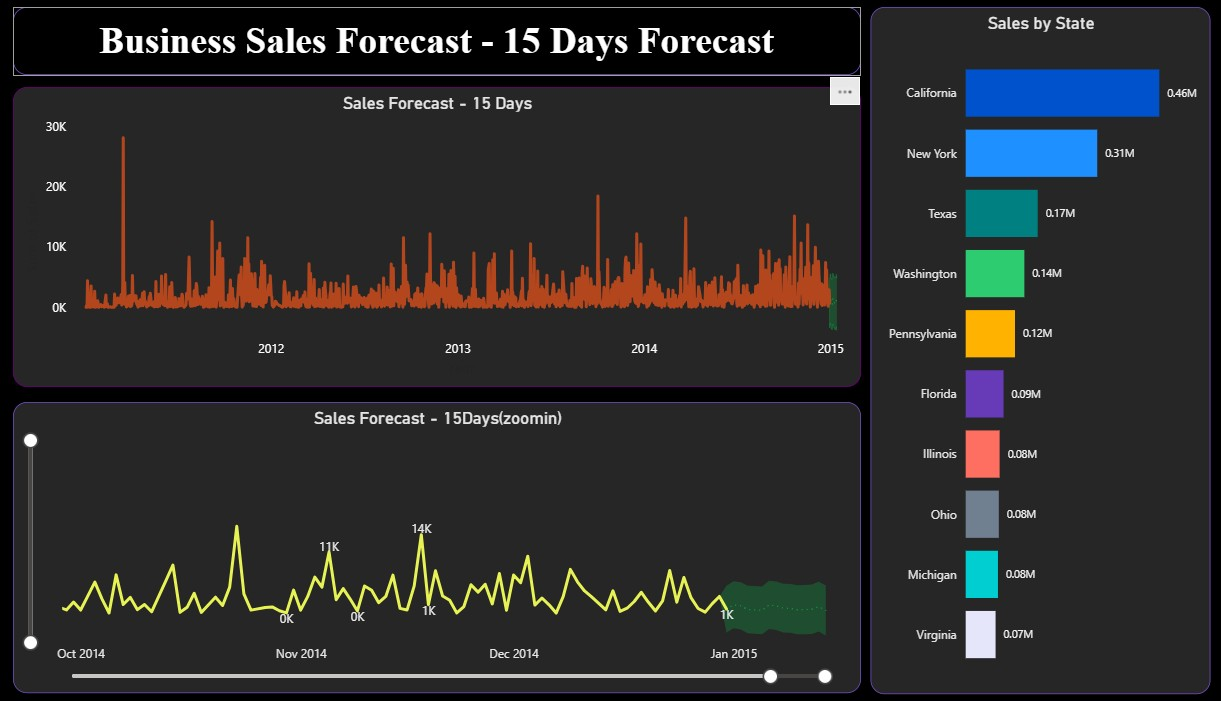

The page's visual inventory and layout, read from the dashboard file:
{"tool":"powerbi","page":{"name":"Business Sales ForeCast - 15 Days Forecast","canvas":[1280,720],"ordinal":1},"visuals":[{"type":"lineChart","title":"Sales Forecast - 15 Days","fields":{"Y":["Sum(Orders.Sales)"],"Category":["Orders.Order Date.Variation.Date Hierarchy.Year","Orders.Order Date.Variation.Date Hierarchy.Month","Orders.Order Date.Variation.Date Hierarchy.Day"]},"box":[69.7,99.6,847.6,300.1],"z":0},{"type":"lineChart","title":"Sales Forecast - 15Days(zoomin)","fields":{"Y":["Sum(Orders.Sales)"],"Category":["Orders.Order Date.Variation.Date Hierarchy.Year","Orders.Order Date.Variation.Date Hierarchy.Month","Orders.Order Date.Variation.Date Hierarchy.Day"]},"box":[69.7,415.3,847.6,291.6],"z":1000},{"type":"clusteredBarChart","title":"Sales by State","fields":{"Y":["Sum(Orders.Sales)"],"Category":["Orders.State"]},"box":[927.3,19.9,339.9,686.9],"z":2000},{"type":"textbox","box":[69.7,19.9,847.6,68.3],"z":3000}]}

Visuals, with their boxes in screenshot pixels (x1, y1, x2, y2), scaled from the page's 1280x720 canvas onto the 1221x701 screenshot:
"Sales Forecast - 15 Days" lineChart: box=[66, 97, 875, 389]
"Sales Forecast - 15Days(zoomin)" lineChart: box=[66, 404, 875, 688]
"Sales by State" clusteredBarChart: box=[885, 19, 1209, 688]
textbox: box=[66, 19, 875, 86]
